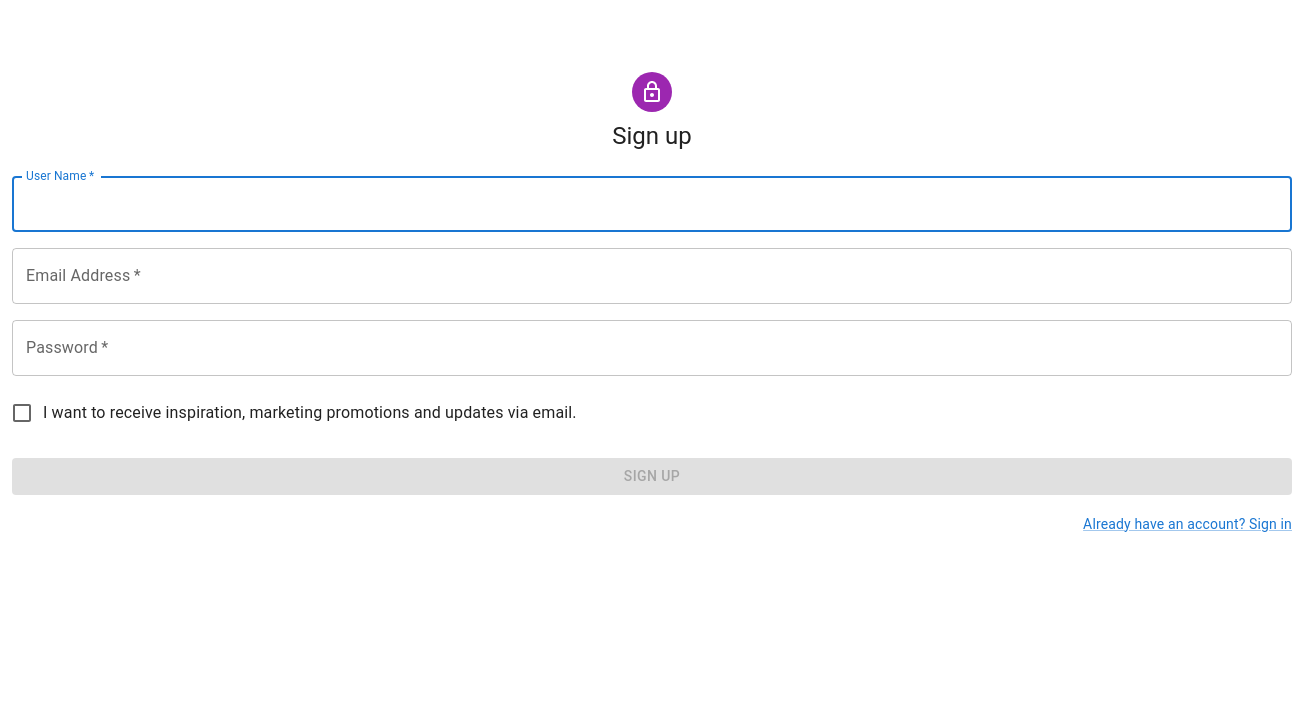
Test: SignUp Component › Validation › should display validation errors for short password
Type "123" into the password field labelled "Password *" at [652, 348], box x1=12 y1=320 x2=1292 y2=376
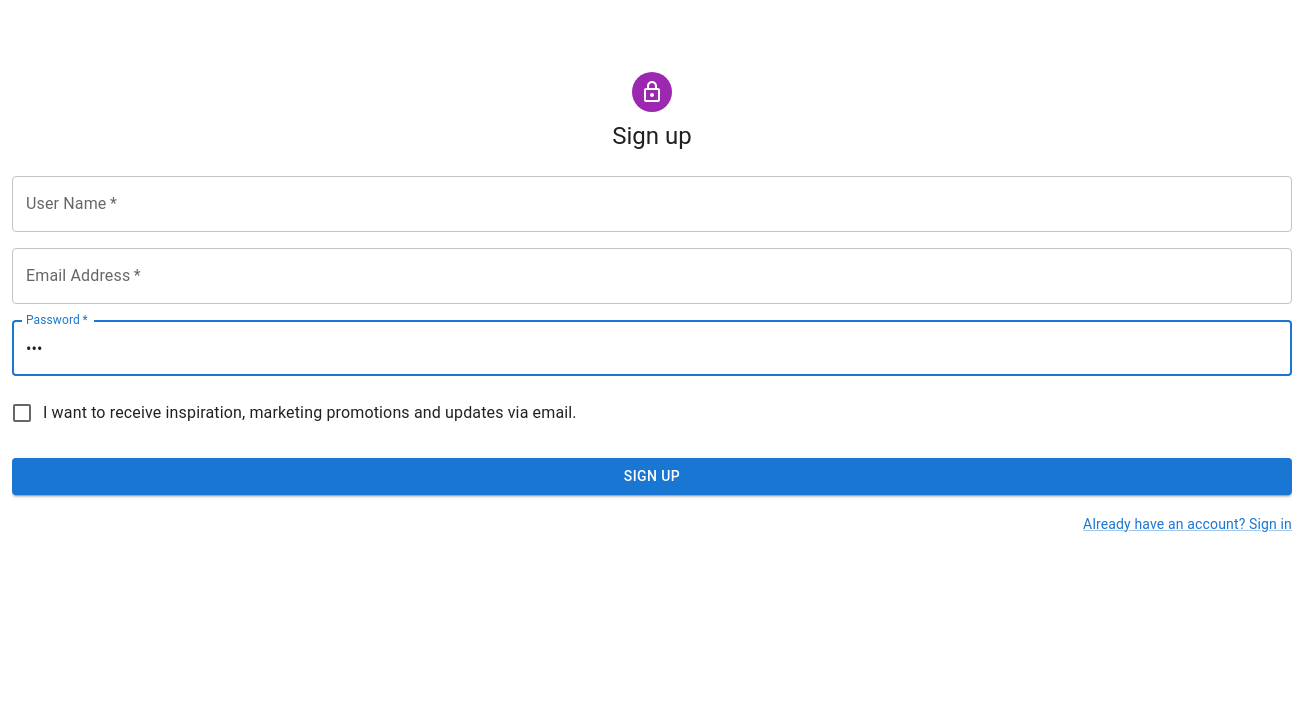
Click the element that starts with "Sign up" at [652, 299], box x1=12 y1=64 x2=1292 y2=534
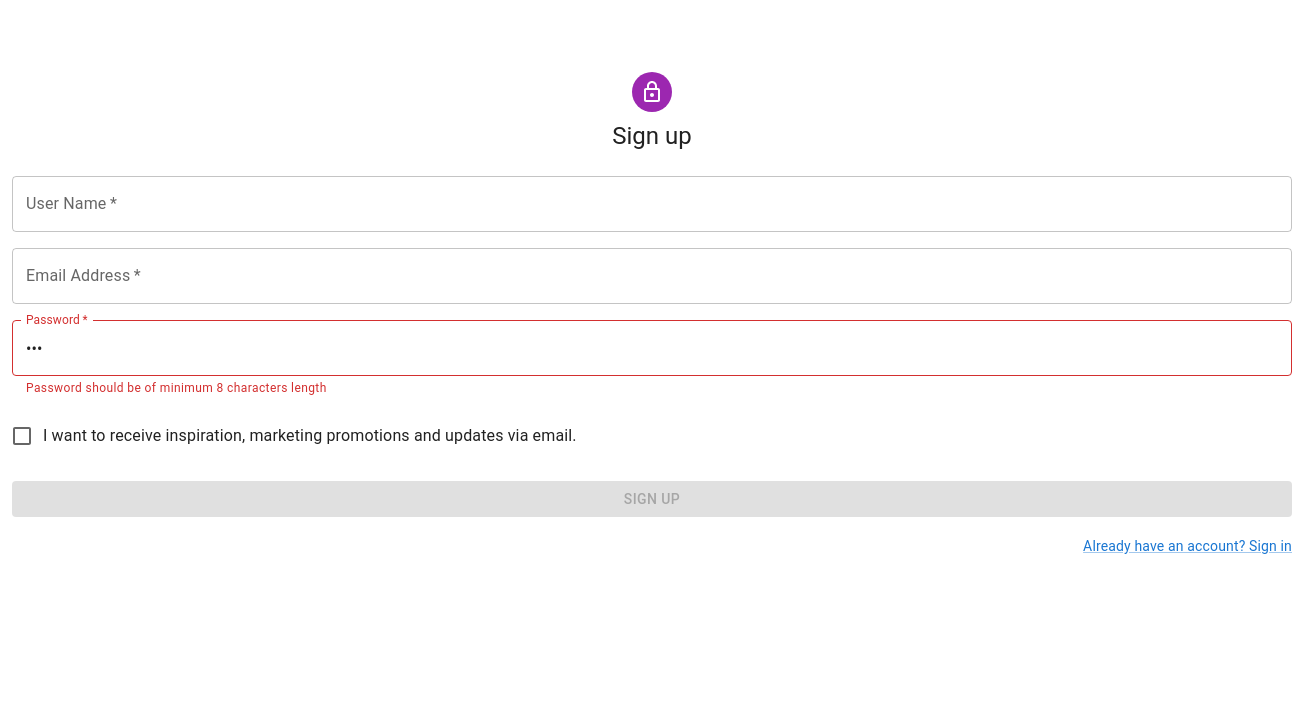
Now the text "Password should be of minimum 8 characters length" is shown, box x1=26 y1=381 x2=327 y2=395
